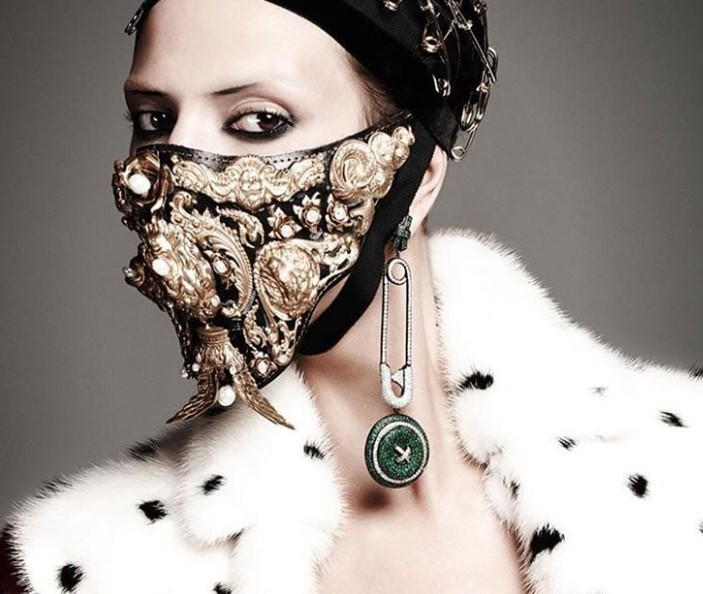face_with_mask: (105, 5, 498, 431)
